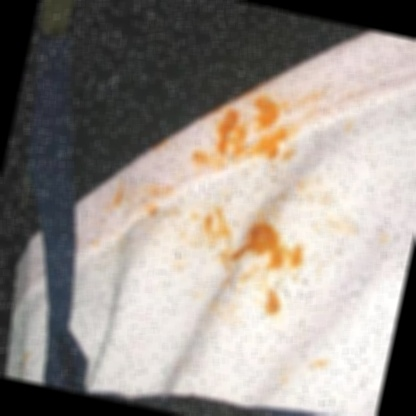kimchi: (184, 193, 317, 322), (204, 108, 313, 186), (101, 177, 190, 231), (249, 91, 329, 130), (306, 183, 363, 222), (88, 221, 136, 260), (158, 241, 193, 287), (292, 82, 340, 109), (293, 347, 333, 377), (187, 144, 208, 170), (337, 113, 356, 139), (15, 351, 34, 374), (374, 227, 392, 246), (415, 42, 416, 63)
